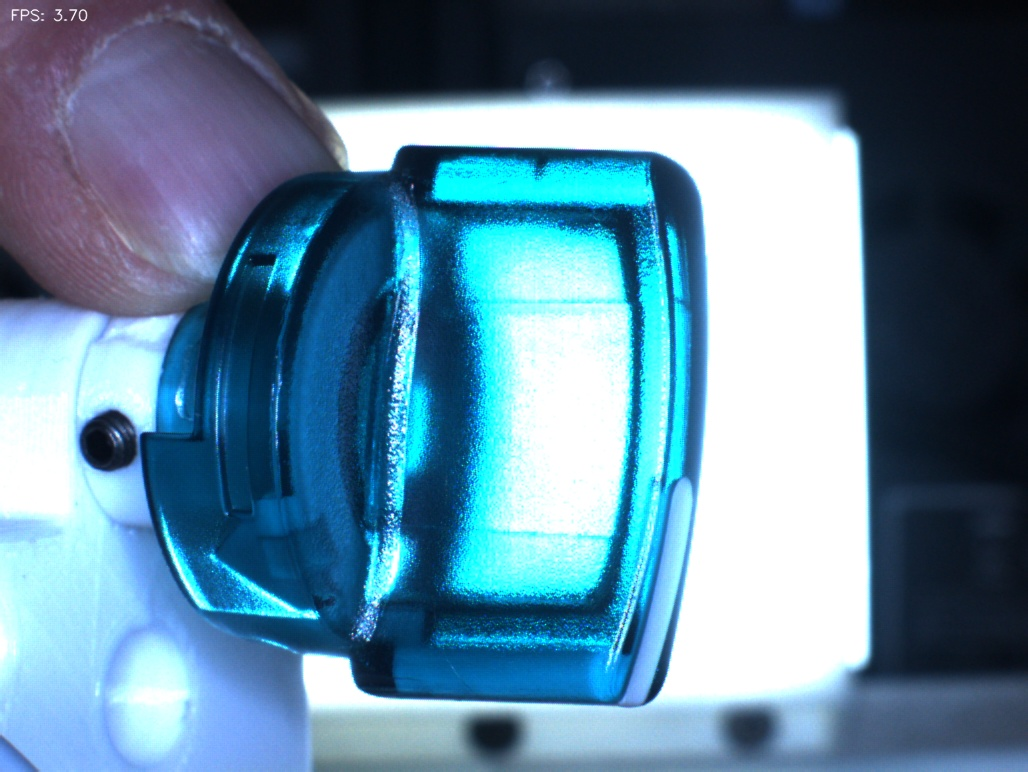Bulle: (497, 109, 584, 199)
